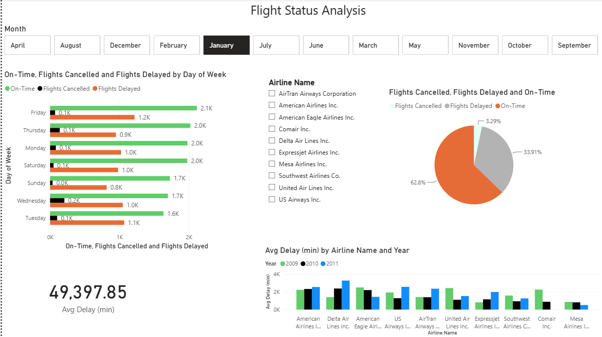

This screenshot's page, from the dashboard's own definition file:
{"tool":"powerbi","page":{"name":"Flight Status Analysis","canvas":[1280,720],"ordinal":0},"visuals":[{"type":"advancedSlicerVisual","fields":{"Values":["Sheet1 (2).Month"]},"box":[0,66.2,1280,70.6],"z":0},{"type":"clusteredBarChart","fields":{"Category":["Sheet1 (2).Day of Week"],"Y":["Sum(Sheet1 (2).On-Time)","Sum(Sheet1 (2).Flights Cancelled)","Sum(Sheet1 (2).Flights Delayed)"]},"box":[0,148.3,483.8,387.4],"z":1000},{"type":"slicer","fields":{"Values":["Sheet1 (2).Airline Name"]},"box":[556,161.3,310.8,336],"z":2000},{"type":"pieChart","fields":{"Y":["Sum(Sheet1 (2).Flights Cancelled)","Sum(Sheet1 (2).Flights Delayed)","Sum(Sheet1 (2).On-Time)"]},"box":[819.7,188.1,371.2,282.2],"z":3000},{"type":"clusteredColumnChart","fields":{"Category":["Sheet1 (2).Airline Name"],"Series":["Sheet1 (2).Year"],"Y":["Sum(Sheet1 (2).Avg Delay (min))"]},"box":[556,524.1,724,196.5],"z":4000},{"type":"card","fields":{"Values":["Sum(Sheet1 (2).Avg Delay (min))"]},"box":[0,539.2,366.2,181.4],"z":5000},{"type":"textbox","box":[483.8,0,336,53.8],"z":6000}]}

Visuals, with their boxes in screenshot pixels (x1, y1, x2, y2), scaled from the page's 1280x720 canvas onto the 602x337 screenshot:
advancedSlicerVisual - Sheet1 (2).Month: <region>0, 31, 601, 64</region>
clusteredBarChart - Sheet1 (2).Day of Week x Sum(Sheet1 (2).On-Time): <region>0, 69, 228, 251</region>
slicer - Sheet1 (2).Airline Name: <region>261, 75, 408, 233</region>
pieChart - Sum(Sheet1 (2).Flights Cancelled) x Sum(Sheet1 (2).Flights Delayed): <region>386, 88, 560, 220</region>
clusteredColumnChart - Sheet1 (2).Airline Name x Sheet1 (2).Year: <region>261, 245, 601, 336</region>
card - Sum(Sheet1 (2).Avg Delay (min)): <region>0, 252, 172, 336</region>
textbox: <region>228, 0, 386, 25</region>
